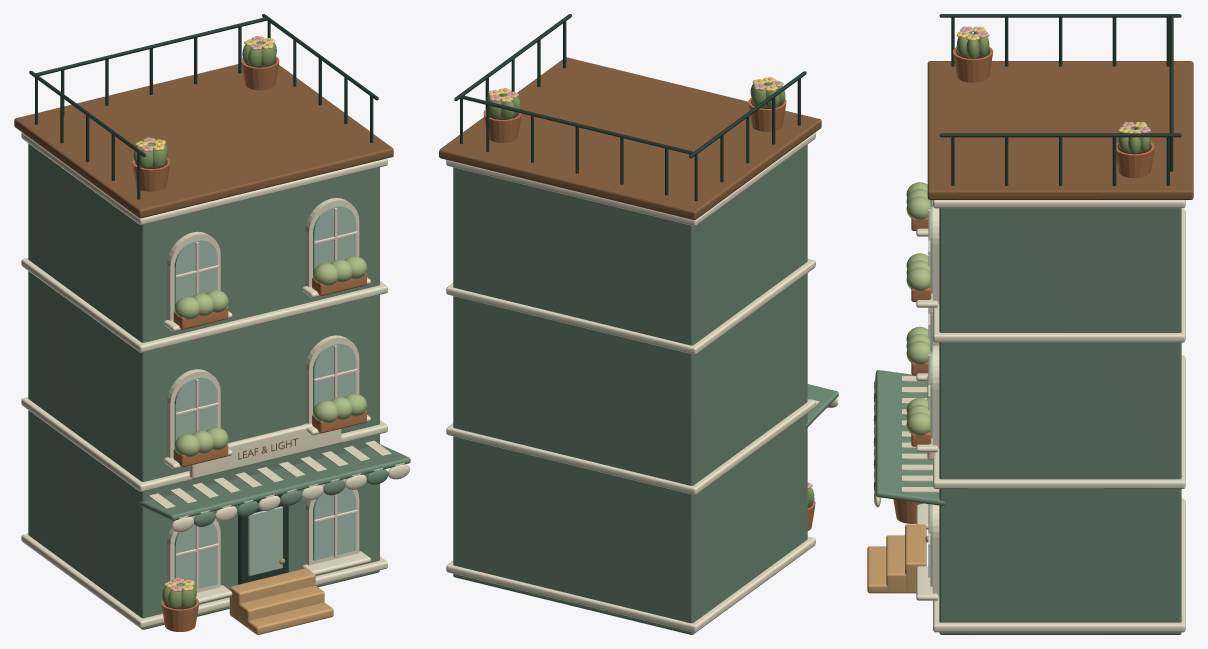
The model's file is leaf.glb.
The picture shows the model from 3 angles, left to right: view 1: azimuth 30°, elevation 25°; view 2: azimuth 150°, elevation 25°; view 3: azimuth 270°, elevation 25°; orthographic projection. The views are drawn at different scales.
Visible parts, largest first — view 1: Plaster house, Roof, Canvas awning, Stone cornice.002, Sign frame, Stone cornice.003, Stone cornice, Stone cornice.001, Window glass.001, Window glass, Door pane, Window glass.002 (+24 smaller); view 2: Plaster house, Roof, Stone cornice, Stone cornice.001, Stone cornice.002, Stone cornice.003, Terrace railing.002, Terracotta pot.003, Terracotta pot.002, Canvas awning, Terrace railing, Terrace railing.001; view 3: Plaster house, Roof, Canvas awning, Stone cornice, Stone cornice.001, Stone cornice.002, Stone cornice.003, Shop entrance step, Terrace railing.001, Shop entrance step.001, Shop entrance step.002, Terrace railing (+12 smaller).
Part boxes in pixels (<box>): Plaster house: <box>28,143,379,629</box>; Roof: <box>14,64,393,218</box>; Canvas awning: <box>139,444,410,520</box>; Stone cornice.002: <box>21,258,387,352</box>; Sign frame: <box>189,423,341,478</box>; Stone cornice.003: <box>21,132,387,225</box>; Stone cornice: <box>21,533,387,628</box>; Stone cornice.001: <box>21,397,387,491</box>; Window glass.001: <box>313,486,356,560</box>; Window glass: <box>174,519,217,588</box>; Door pane: <box>248,506,282,576</box>; Window glass.002: <box>174,377,217,443</box>; Plaster house: <box>453,144,807,634</box>; Roof: <box>439,57,821,219</box>; Stone cornice: <box>446,536,815,632</box>; Stone cornice.001: <box>446,399,815,494</box>; Stone cornice.002: <box>446,259,815,354</box>; Stone cornice.003: <box>446,132,815,225</box>; Terrace railing.002: <box>460,95,693,154</box>; Terracotta pot.003: <box>483,109,521,142</box>; Terracotta pot.002: <box>748,97,786,131</box>; Canvas awning: <box>805,384,838,428</box>; Terrace railing: <box>689,71,806,158</box>; Terrace railing.001: <box>454,14,571,100</box>; Plaster house: <box>939,208,1181,634</box>; Roof: <box>927,61,1193,199</box>; Canvas awning: <box>875,370,945,505</box>; Stone cornice: <box>933,498,1185,632</box>; Stone cornice.001: <box>933,355,1185,488</box>; Stone cornice.002: <box>933,209,1185,342</box>; Stone cornice.003: <box>933,200,1185,208</box>; Shop entrance step: <box>905,524,926,593</box>; Terrace railing.001: <box>939,133,1181,137</box>; Shop entrance step.001: <box>886,535,906,593</box>; Shop entrance step.002: <box>867,546,887,593</box>; Terrace railing: <box>939,14,1181,17</box>.
Bounding box in the file's own units: 4.6 × 8.21 × 4.85.
